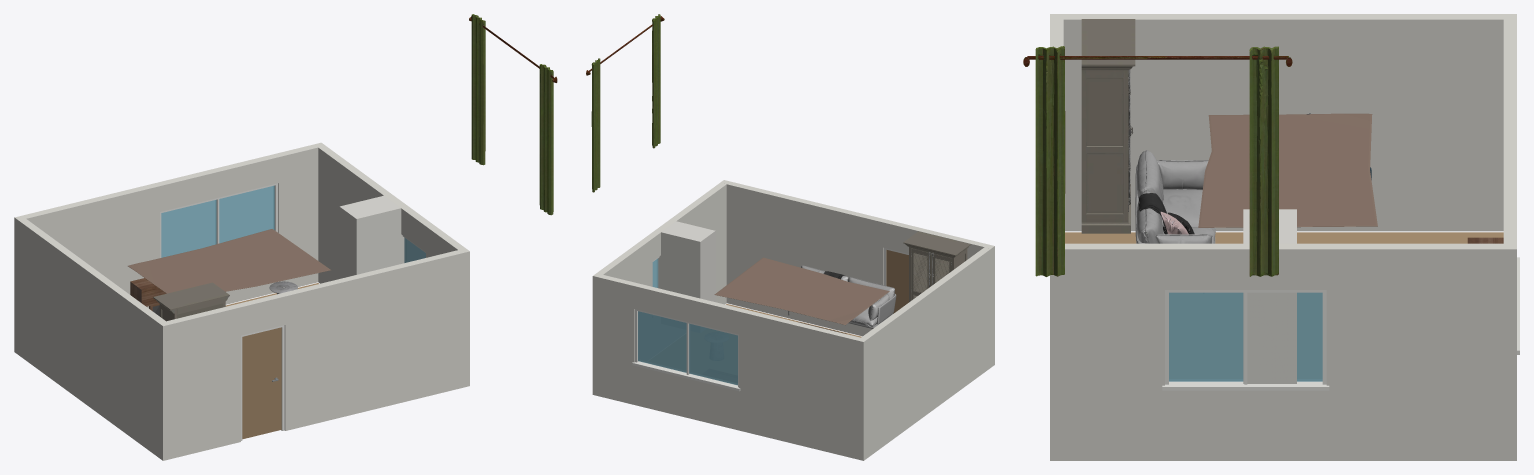
File: layoutgpt.glb
3 renders of one model, left to right at view 1: azimuth 30°, elevation 25°; view 2: azimuth 150°, elevation 25°; view 3: azimuth 270°, elevation 25°, orthographic. The views are drawn at different scales.
Parts seen in each view (by area): view 1: wall|scenesmith_029__R00|0, wall|scenesmith_029__R00|2, wall|scenesmith_029__R00|1, furniture_group, wall|scenesmith_029__R00|3, wall|scenesmith_029__R00|1 Window 0 | glazing, scenesmith_029__R00_9, scenesmith_029__R00_6 | structural enclosure, wall|scenesmith_029__R00|0 Door 0 | wood leaf, raw_model.005, wall|scenesmith_029__R00|0 Door 0 | jamb, wall|scenesmith_029__R00|1 Window 0 | jamb (+1 smaller); view 2: wall|scenesmith_029__R00|1, wall|scenesmith_029__R00|2, wall|scenesmith_029__R00|0, furniture_group, wall|scenesmith_029__R00|3, wall|scenesmith_029__R00|1 Window 0 | glazing, scenesmith_029__R00_6 | structural enclosure, raw_model.005, scenesmith_029__R00_9, raw_model, wall|scenesmith_029__R00|1 Window 0 | jamb, wall|scenesmith_029__R00|0 Door 0 | wood leaf; view 3: wall|scenesmith_029__R00|3, wall|scenesmith_029__R00|2, furniture_group, scenesmith_029__R00_9, raw_model.005, wall|scenesmith_029__R00|3 Window 0 | glazing, wall|scenesmith_029__R00|1, raw_model, scenesmith_029__R00_6 | structural enclosure, floor, wall|scenesmith_029__R00|3 Window 0 | jamb, wall|scenesmith_029__R00|0.
Boxes of the visible parts, x1,y1,x2,y2 form: wall|scenesmith_029__R00|0: [159, 248, 469, 458]; wall|scenesmith_029__R00|2: [15, 215, 170, 460]; wall|scenesmith_029__R00|1: [14, 144, 318, 354]; furniture_group: [128, 229, 330, 293]; wall|scenesmith_029__R00|3: [314, 142, 469, 387]; wall|scenesmith_029__R00|1 Window 0 | glazing: [161, 185, 274, 257]; scenesmith_029__R00_9: [469, 14, 557, 215]; scenesmith_029__R00_6 | structural enclosure: [339, 195, 404, 278]; wall|scenesmith_029__R00|0 Door 0 | wood leaf: [242, 327, 281, 439]; raw_model.005: [153, 282, 229, 321]; wall|scenesmith_029__R00|0 Door 0 | jamb: [241, 325, 284, 440]; wall|scenesmith_029__R00|1 Window 0 | jamb: [160, 183, 277, 257]; wall|scenesmith_029__R00|1: [599, 275, 867, 460]; wall|scenesmith_029__R00|2: [857, 246, 994, 460]; wall|scenesmith_029__R00|0: [720, 180, 994, 336]; furniture_group: [714, 257, 889, 325]; wall|scenesmith_029__R00|3: [592, 182, 726, 396]; wall|scenesmith_029__R00|1 Window 0 | glazing: [638, 311, 737, 385]; scenesmith_029__R00_6 | structural enclosure: [657, 221, 715, 301]; raw_model.005: [903, 231, 970, 302]; scenesmith_029__R00_9: [586, 14, 664, 192]; raw_model: [788, 265, 896, 328]; wall|scenesmith_029__R00|1 Window 0 | jamb: [632, 309, 740, 391]; wall|scenesmith_029__R00|0 Door 0 | wood leaf: [886, 249, 908, 313]; wall|scenesmith_029__R00|3: [1063, 243, 1516, 460]; wall|scenesmith_029__R00|2: [1063, 14, 1516, 231]; furniture_group: [1198, 113, 1377, 227]; scenesmith_029__R00_9: [1023, 46, 1292, 276]; raw_model.005: [1081, 19, 1135, 233]; wall|scenesmith_029__R00|3 Window 0 | glazing: [1169, 292, 1322, 381]; wall|scenesmith_029__R00|1: [1503, 14, 1516, 460]; raw_model: [1135, 150, 1215, 243]; scenesmith_029__R00_6 | structural enclosure: [1243, 209, 1296, 383]; floor: [1065, 232, 1503, 243]; wall|scenesmith_029__R00|3 Window 0 | jamb: [1162, 290, 1329, 390]; wall|scenesmith_029__R00|0: [1050, 14, 1063, 460].
Size of the model in its own units: 7.8 by 5.81 by 5.53.
16 materials, 8 textured.
